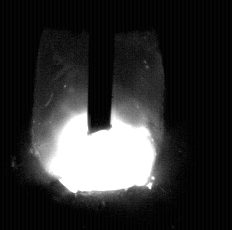arame: (88, 0, 113, 135)
poca: (32, 0, 164, 230)
